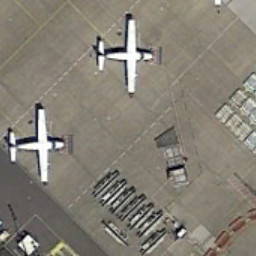Airplane: (2, 98, 80, 190), (90, 12, 166, 104)
